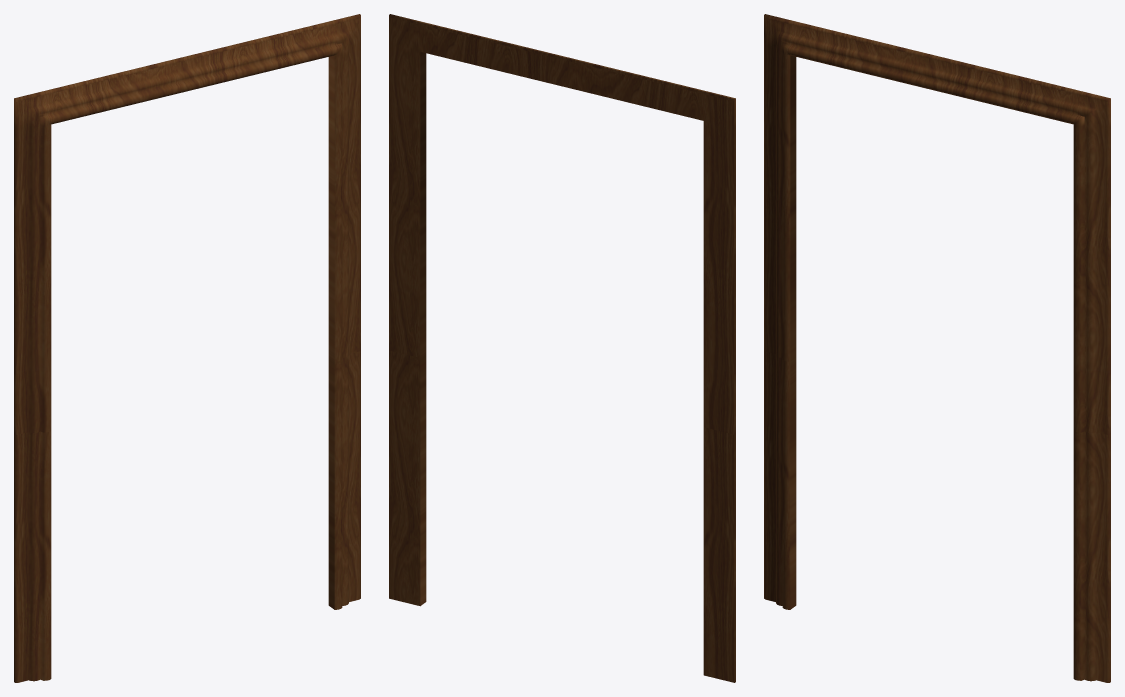
The model's file is Misc_DoorFrame.fbx.
3 renders of one model, left to right at view 1: azimuth 30°, elevation 25°; view 2: azimuth 150°, elevation 25°; view 3: azimuth 330°, elevation 25°, orthographic.
Visible parts, largest first — view 1: DoorFrameUVd:polySurface3; view 2: DoorFrameUVd:polySurface3; view 3: DoorFrameUVd:polySurface3.
Part boxes in pixels (box(x1,y1,x2,y2)): DoorFrameUVd:polySurface3: box(14, 14, 360, 682); DoorFrameUVd:polySurface3: box(389, 14, 735, 682); DoorFrameUVd:polySurface3: box(764, 14, 1110, 682).
Bounding box in the file's own units: 97.88 × 158 × 3.31.
